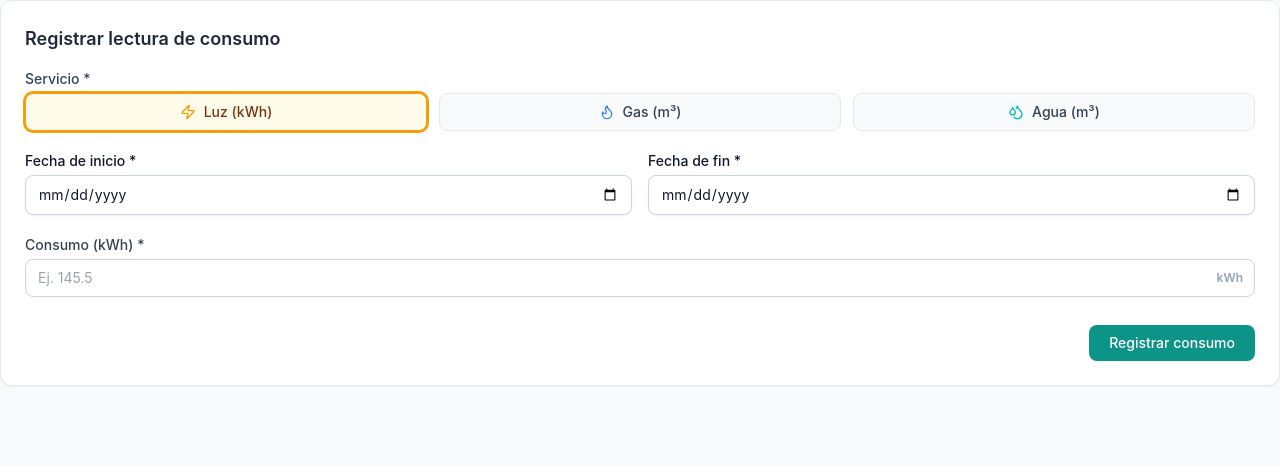
Test case: FormularioConsumo (HU-08 / DET-16) › envía los datos correctamente y muestra mensaje de éxito
Step 1. Type "2026-08-01" into the date field labelled "Fecha de inicio *" → (328, 195), box [25,175,632,215]
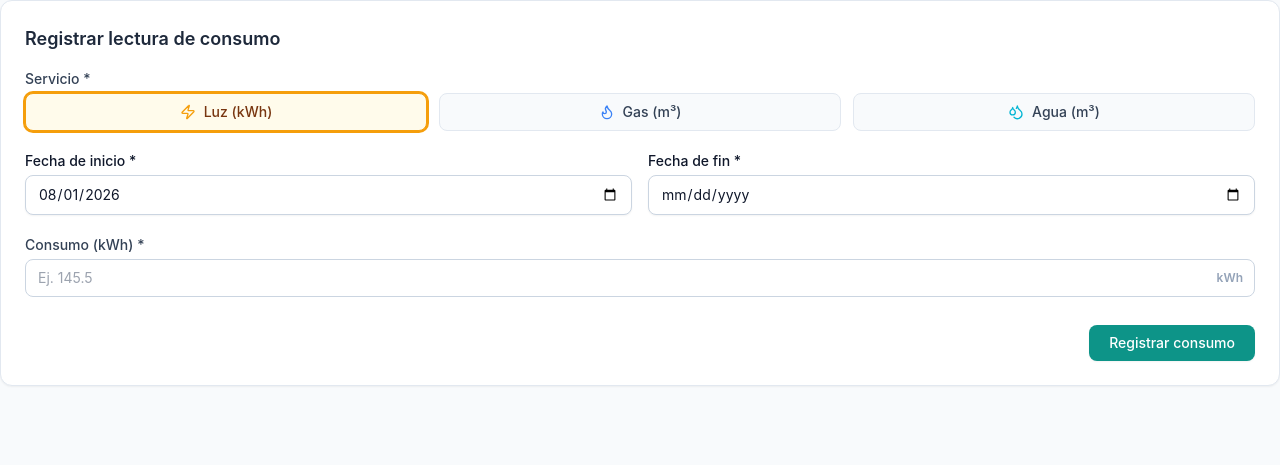
Step 2. Type "2026-08-31" into the date field labelled "Fecha de fin *" → (952, 195), box [648,175,1255,215]
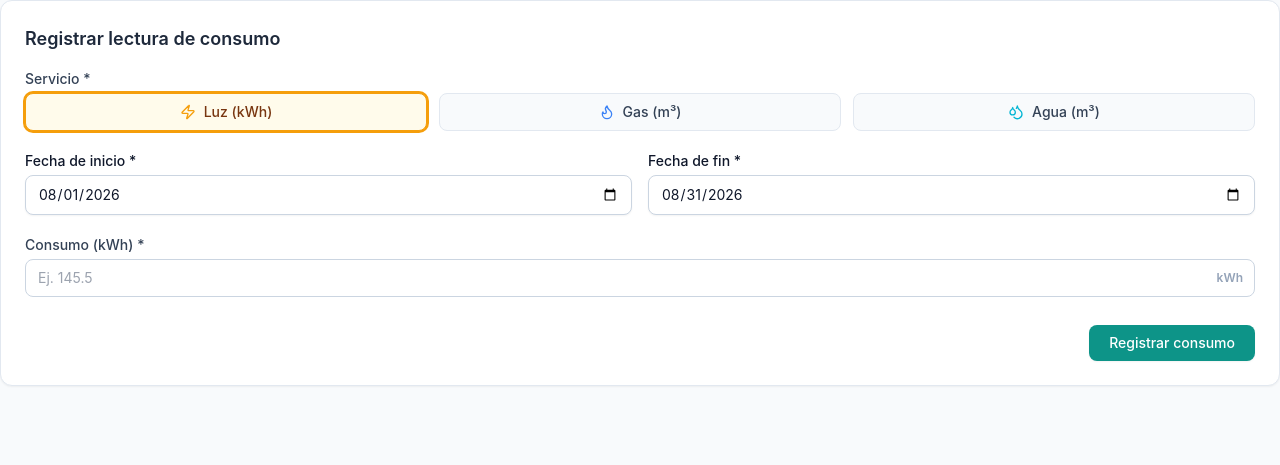
Step 3. Type "120.5" into the number field labelled "Consumo (kWh) *" → (640, 278), box [25,259,1255,297]
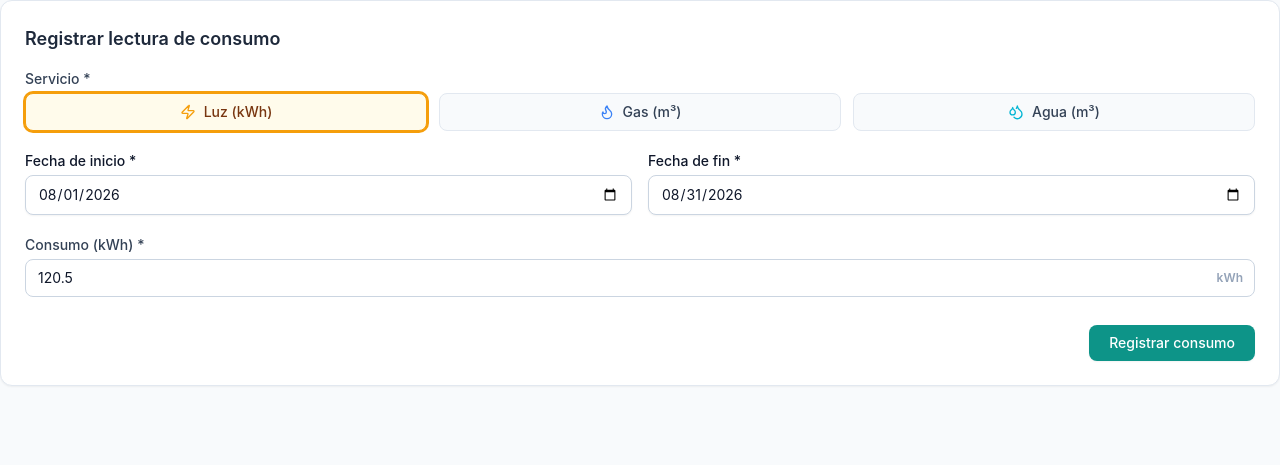
Step 4. Click the button "Registrar consumo" → (1172, 343), box [1089,325,1255,361]
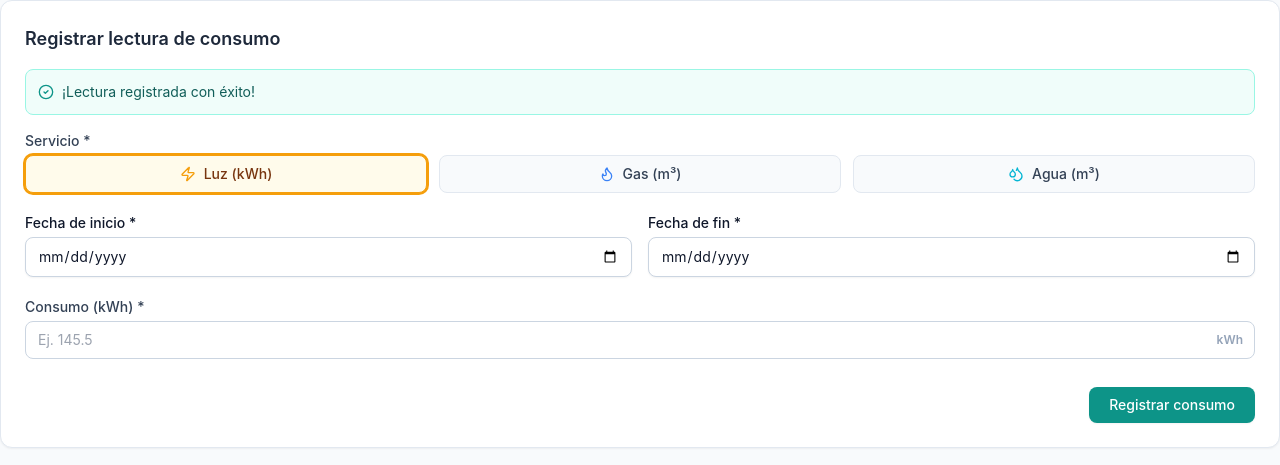
Expected: the text "¡Lectura registrada con éxito!" is shown, [62,82,255,102]
